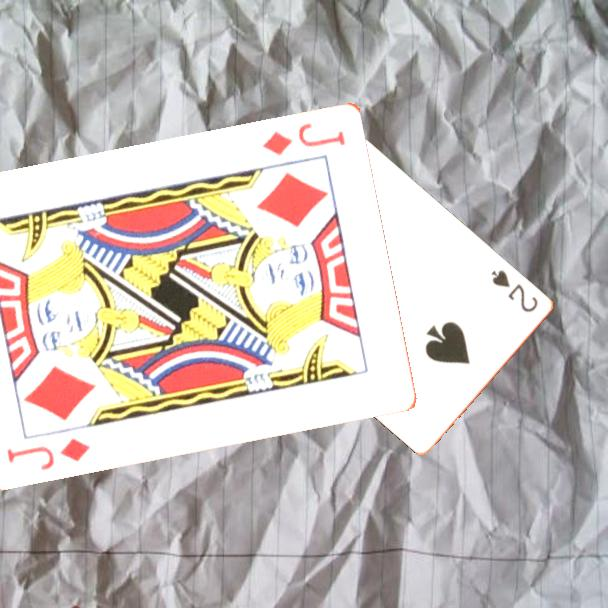d11: (4, 434, 93, 473), (260, 119, 348, 158)
s02: (488, 266, 541, 315)
